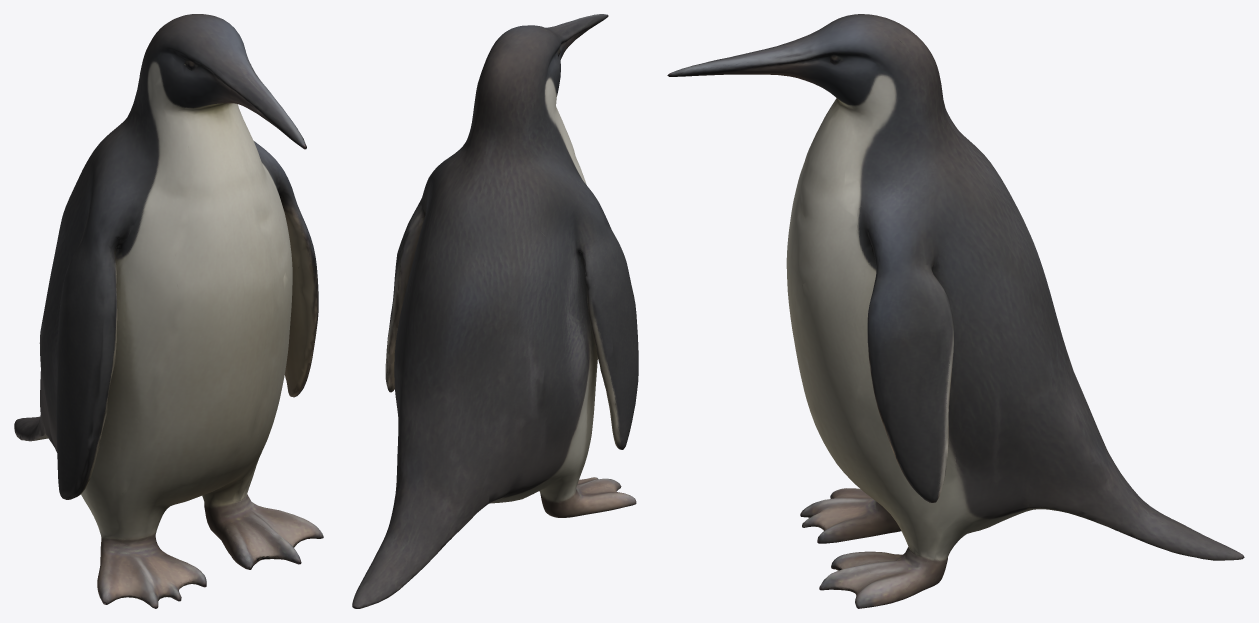
3 views of the same model, side by side, from view 1: azimuth 30°, elevation 25°; view 2: azimuth 150°, elevation 25°; view 3: azimuth 270°, elevation 25° (orthographic). The views are drawn at different scales.
Visible parts, largest first — view 1: geometry_0; view 2: geometry_0; view 3: geometry_0.
Part boxes in pixels (x1,y1,x2,y2): geometry_0: [14, 14, 323, 608]; geometry_0: [352, 14, 638, 608]; geometry_0: [667, 14, 1244, 608].
Size of the model in its own units: 0.796 by 1.6 by 1.56.
1 material, 1 textured.
